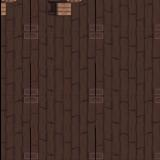Obstacle: (46, 0, 82, 20), (0, 0, 20, 22)
